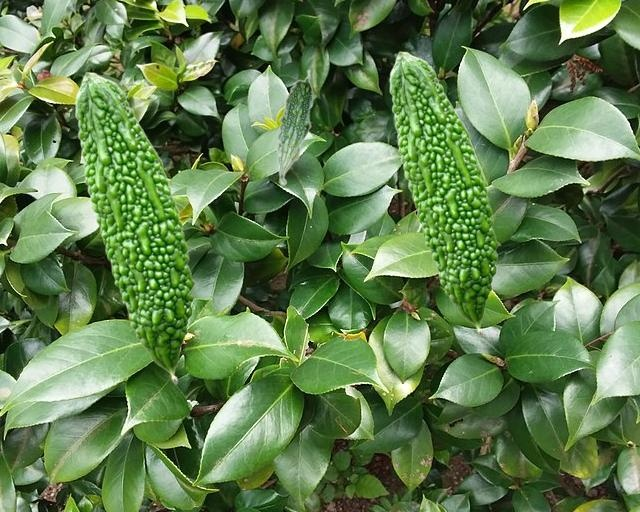ampalaya: (74, 71, 198, 385), (388, 50, 501, 337), (275, 69, 314, 186)
